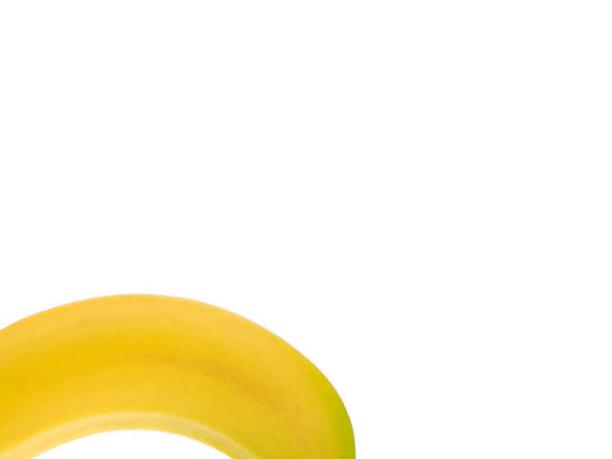banana: (1, 291, 357, 459)
